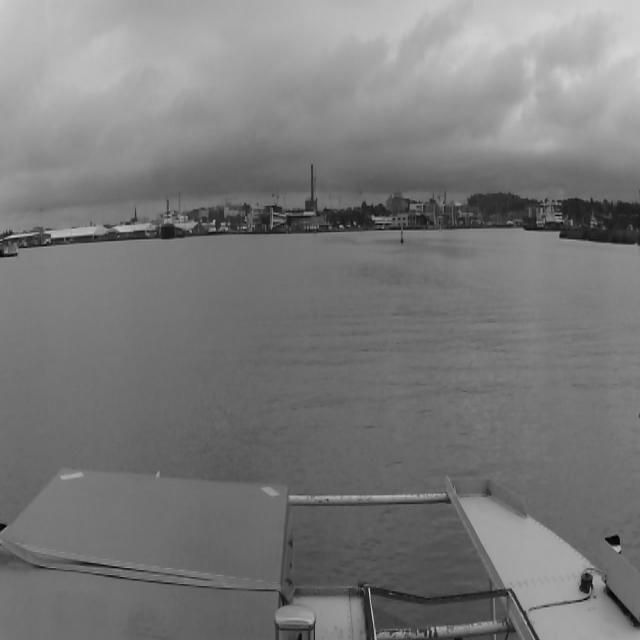buoy: (400, 226, 404, 244)
ship: (524, 201, 562, 230), (160, 200, 176, 239)
